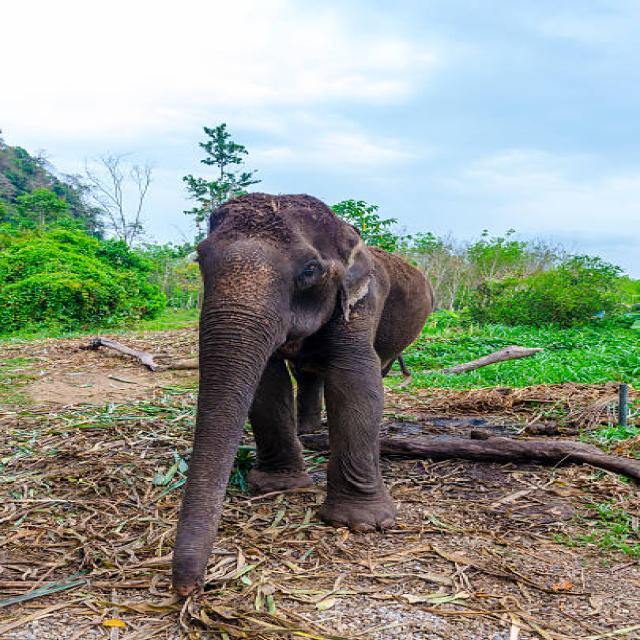Elephant: (159, 178, 442, 620)
